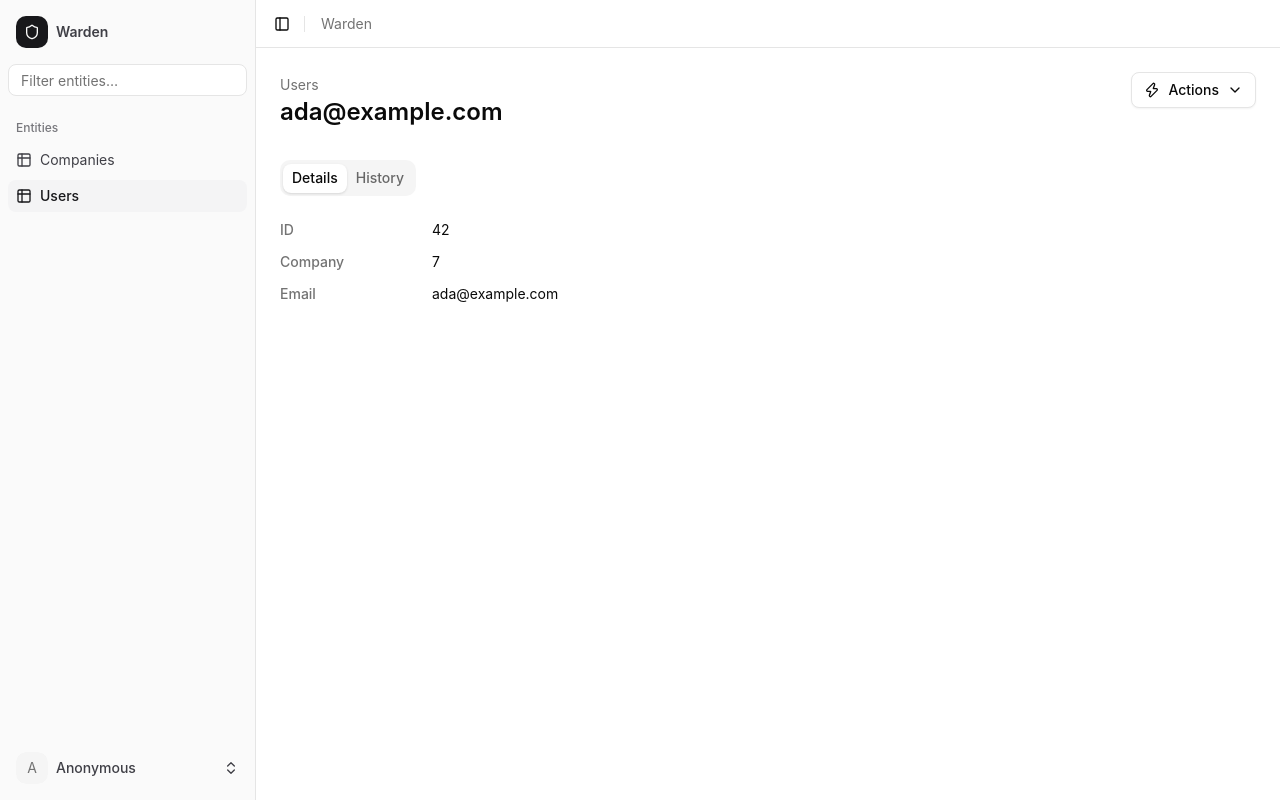
Test case: actions on the record page › shows field errors in the form
Click the button "Actions": (1194, 90) [1131, 72, 1256, 108]
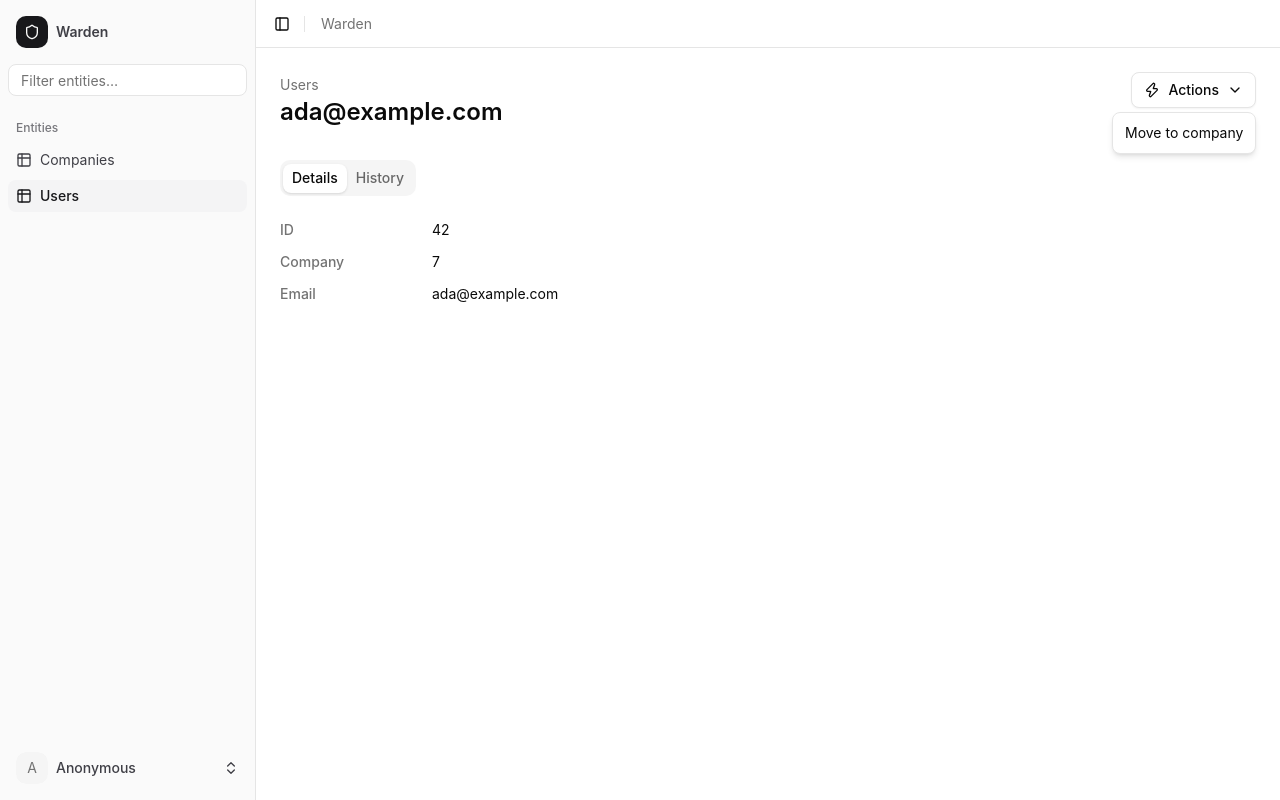
Click the menu item "Move to company": (1184, 132) [1125, 124, 1243, 141]
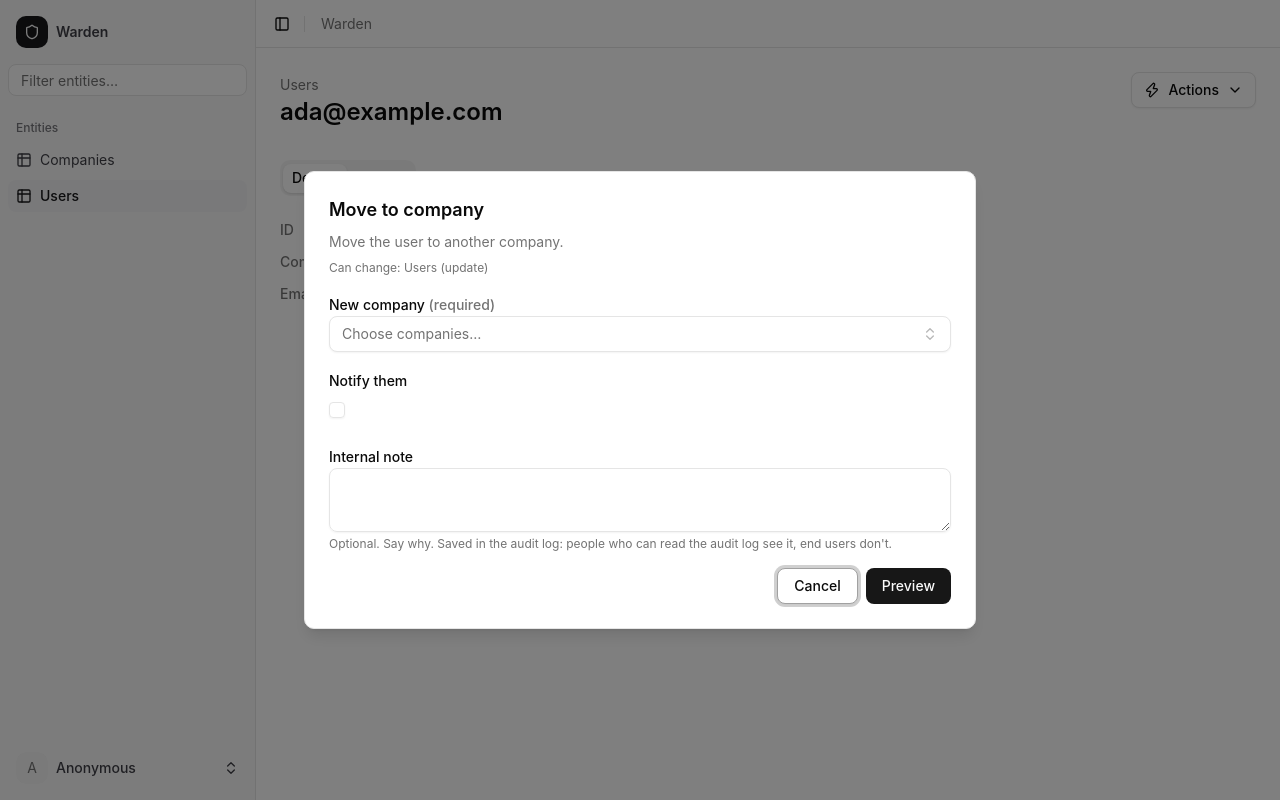
Click the button "Preview": (908, 586) [866, 568, 951, 604]
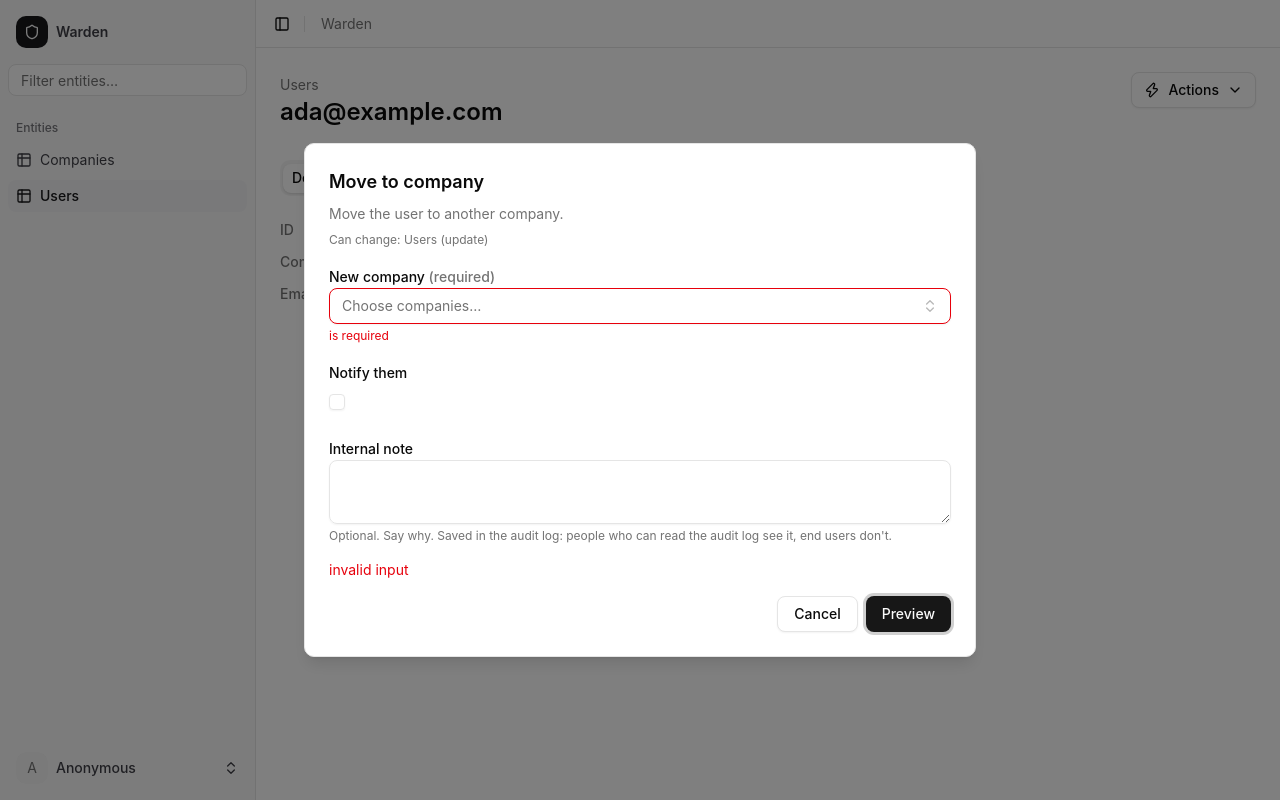
Check: the text "is required" is shown, box [329, 328, 389, 343]
Check: the message reads "invalid input", box [329, 561, 408, 578]
